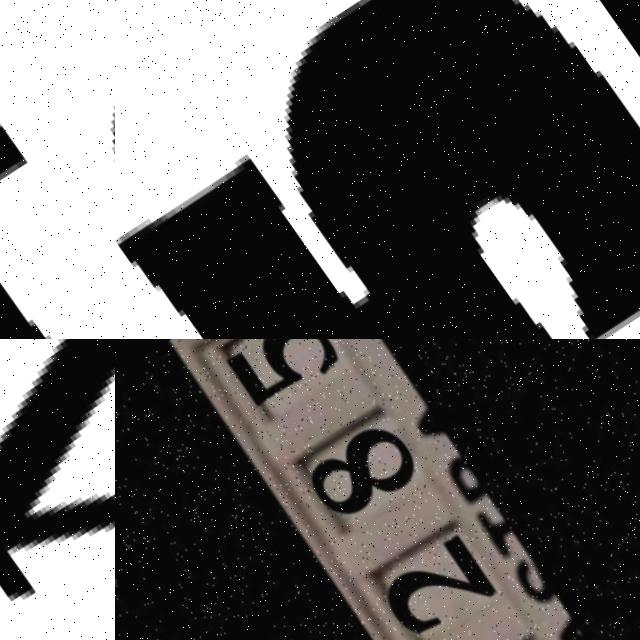2: (353, 516, 509, 640)
5: (115, 0, 640, 339), (205, 339, 360, 434)
8: (283, 399, 439, 547)
N: (0, 339, 115, 640)
S: (0, 0, 115, 339)
